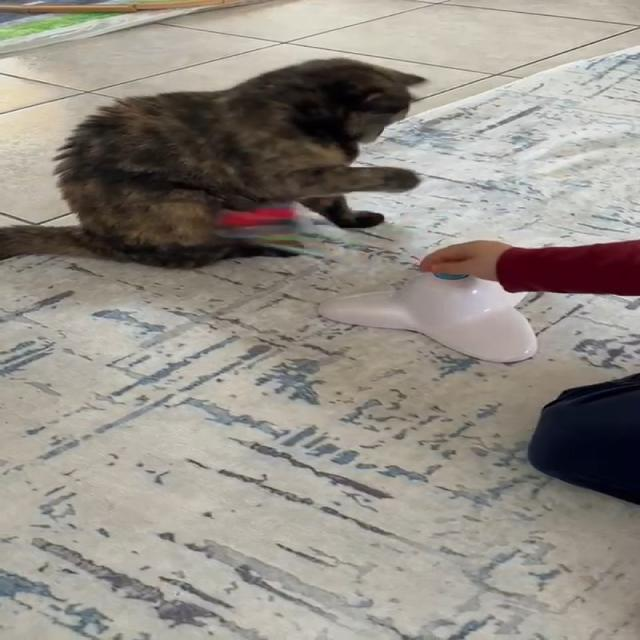authorized: (0, 56, 428, 269)
